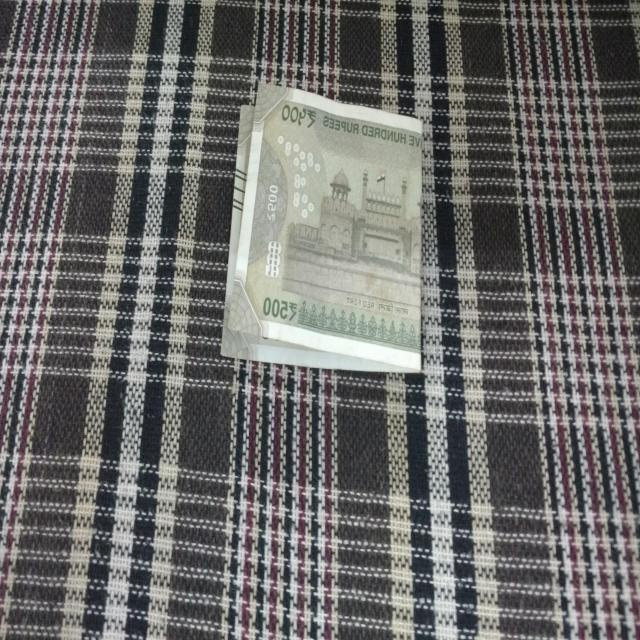Currency: (201, 73, 449, 399)
